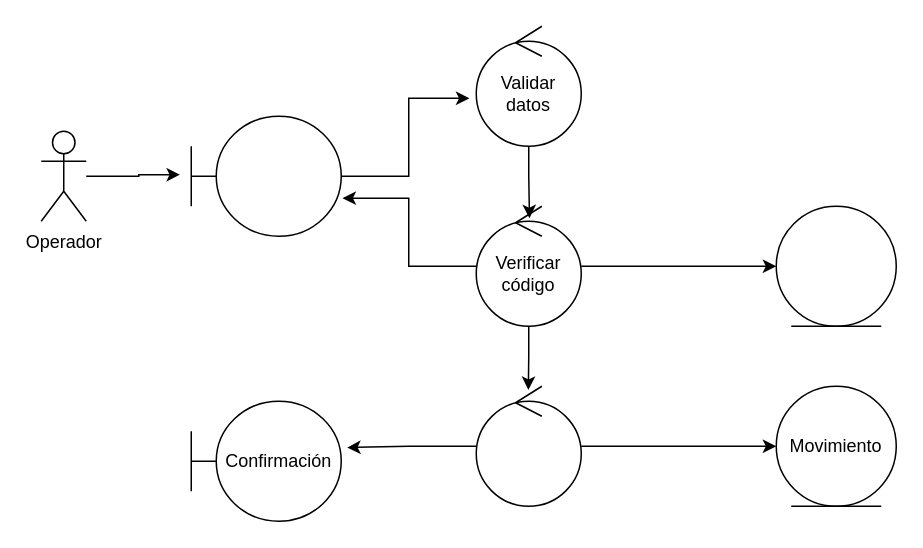
Image size: 923x548. Some labels were removed from this diagram. Each missing label, with the centre of its shape:
"Guardar producto" goes at point 528,445.
"Pantalla Alta" goes at point 265,175.
"Producto" goes at point 835,265.
